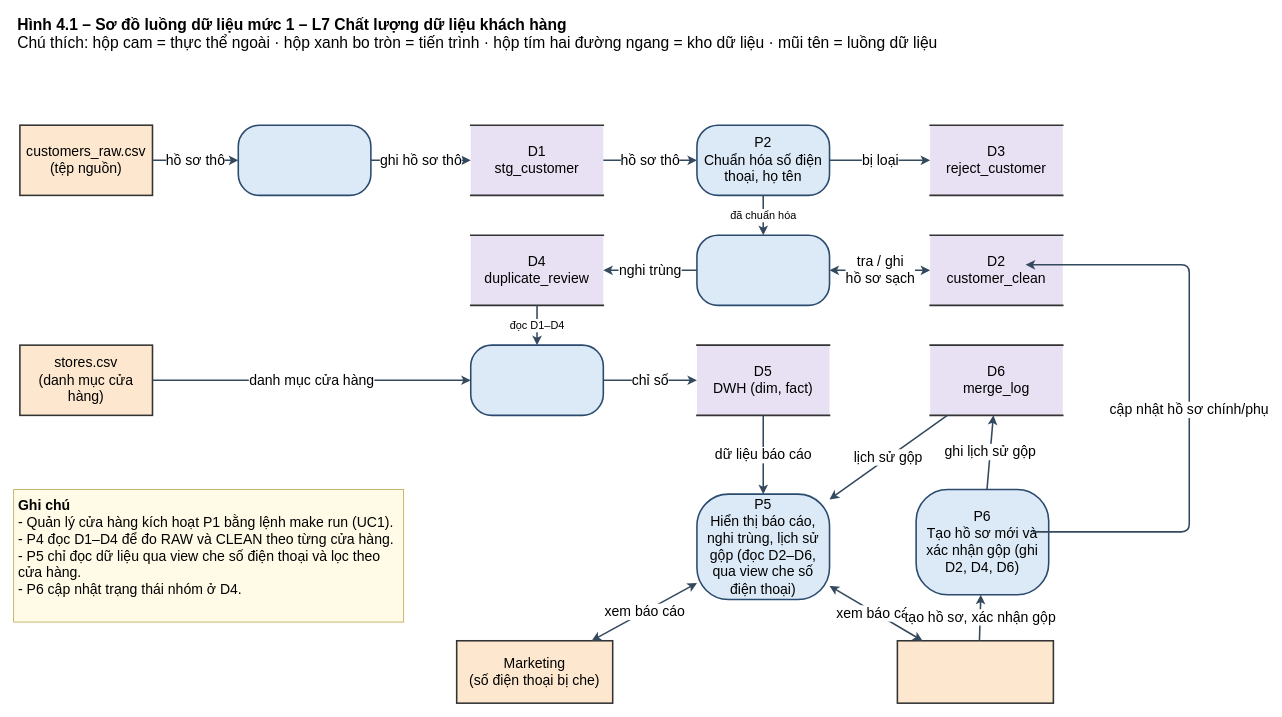
The diagram is 1282 pixels wide and 717 high, and some of its shapes have lost their labels. The box of each missing label's shape, as (x1, y1, x2, y2) in pixels:
P1 Nạp hồ sơ thô: (237, 124, 371, 196)
P3 Đối chiếu hồ sơ trùng: (696, 234, 830, 306)
P4 Đo chất lượng (RAW, CLEAN): (470, 344, 604, 416)
Quản lý cửa hàng: (896, 640, 1054, 704)
